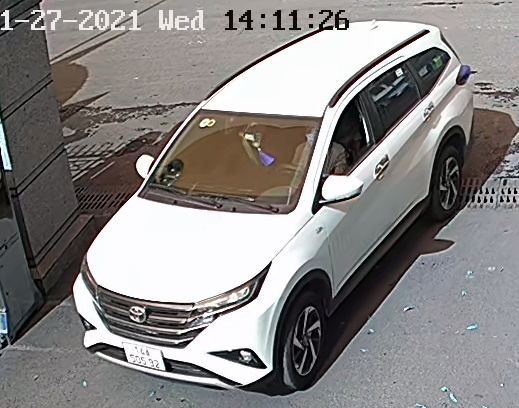vehicle plate: (116, 339, 164, 370)
